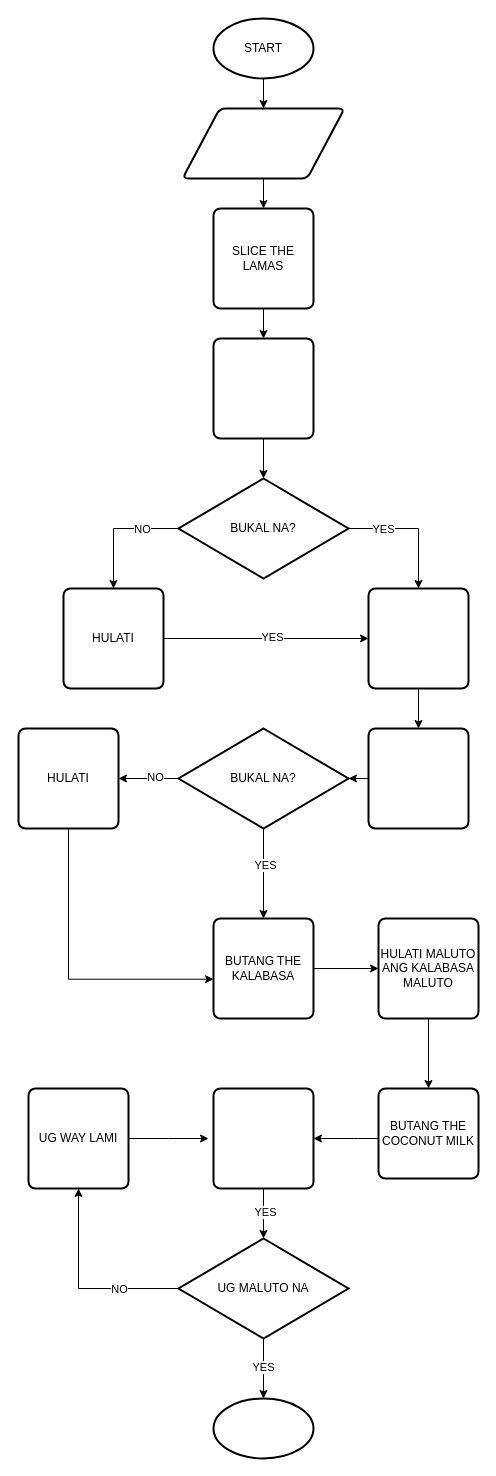
The diagram is 496 pixels wide and 1476 high, and some of its shapes have lost their labels. The shapes that lost their labels are listed below. From the top down, each one's box as (x1, y1, x2, y2) in pixels, then its label:
(181, 107, 345, 179): INGREDIENTS OF GINATAANG MALUNGGAY
(212, 337, 314, 439): PA BUKAL THE WATER
(367, 587, 469, 689): BUTANG THE LAMAS
(367, 727, 469, 829): PA BUKAL THE WATER BALIK.
(212, 1087, 314, 1189): BUTANG THE SEASONINGS
(212, 1397, 314, 1459): END/ LUTO NA
